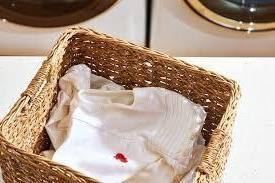blood: (114, 150, 129, 165)
